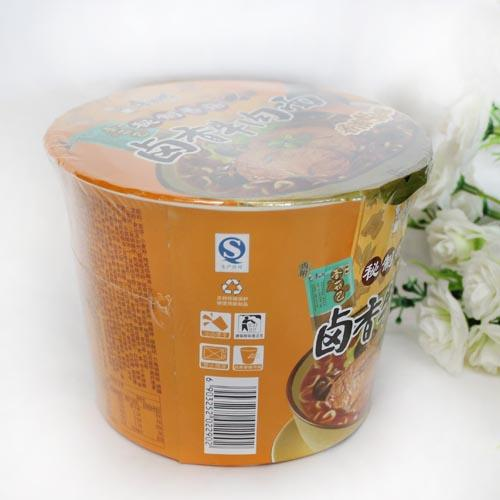luxiang: (43, 80, 433, 468)
